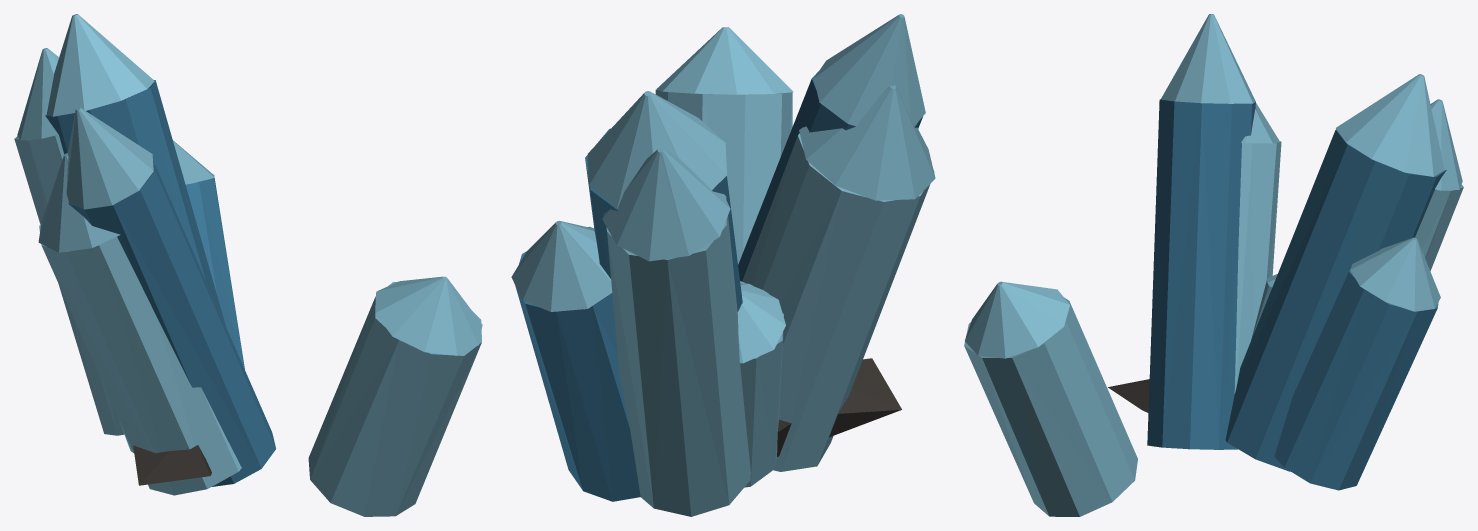
Rendered from crystals.glb.
3 renders of one model, left to right at view 1: azimuth 30°, elevation 25°; view 2: azimuth 150°, elevation 25°; view 3: azimuth 270°, elevation 25°, orthographic. The views are drawn at different scales.
Parts seen in each view (by area): view 1: crystals; view 2: crystals; view 3: crystals.
Part boxes in pixels (x1=…): crystals: x1=14, y1=14, x2=482, y2=516; crystals: x1=511, y1=14, x2=935, y2=516; crystals: x1=964, y1=14, x2=1463, y2=516.
Size of the model in its own units: 0.4905 by 0.5723 by 0.6727.
